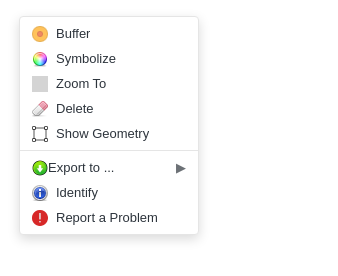
Test: MyMapsItemPopup Component › Styling and CSS Classes › should have proper submenu classes
The width and height of the screenshot is (338, 276).
Hover over the text "Export to ..." at x=81, y=168, box [48,158,114,177]
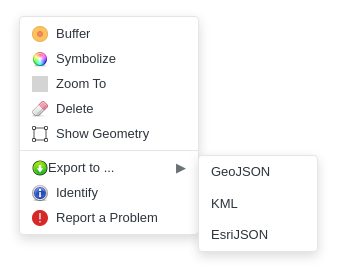
Now the element showing "GeoJSON KML EsriJSON" is shown, box [198,155,318,252]
